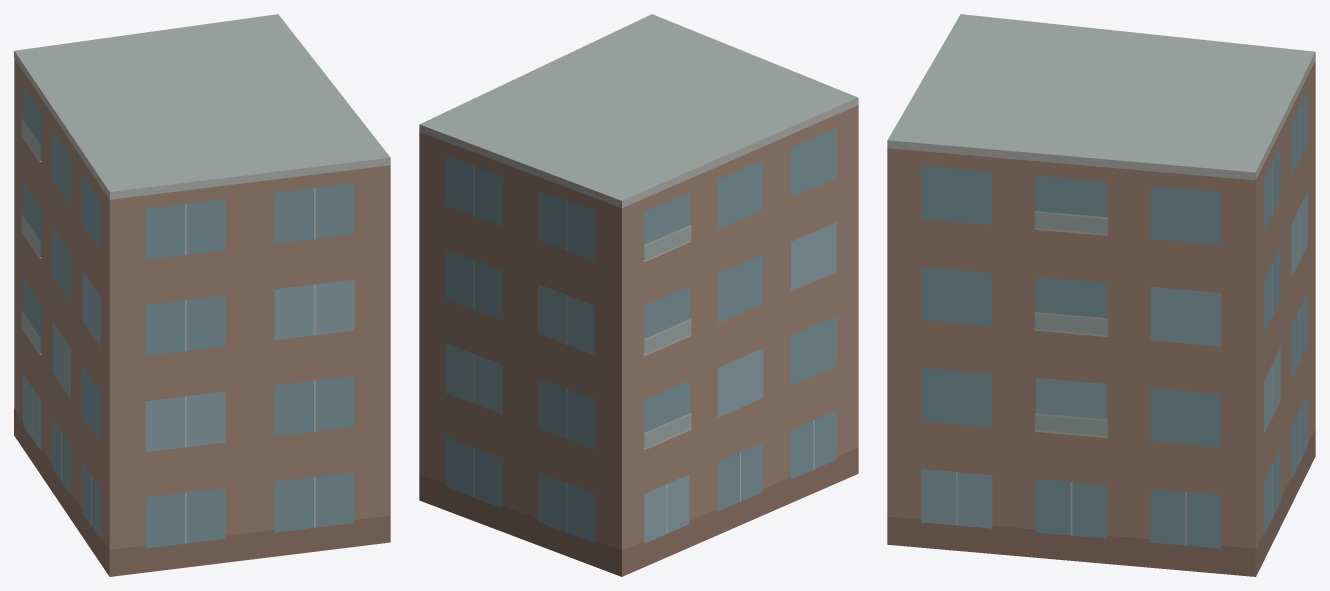
File: survey-upis-32951813.glb
The picture shows the model from 3 angles, left to right: view 1: azimuth 30°, elevation 25°; view 2: azimuth 150°, elevation 25°; view 3: azimuth 270°, elevation 25°; orthographic projection. The views are drawn at different scales.
Visible parts, largest first — view 1: survey-upis-32951813.tmp; view 2: survey-upis-32951813.tmp; view 3: survey-upis-32951813.tmp.
Part boxes in pixels (left/top/right/bottom): survey-upis-32951813.tmp: left=14, top=14, right=390, bottom=576; survey-upis-32951813.tmp: left=419, top=14, right=858, bottom=576; survey-upis-32951813.tmp: left=887, top=14, right=1315, bottom=576.
Size of the model in its own units: 10.43 by 12.4 by 11.91.
